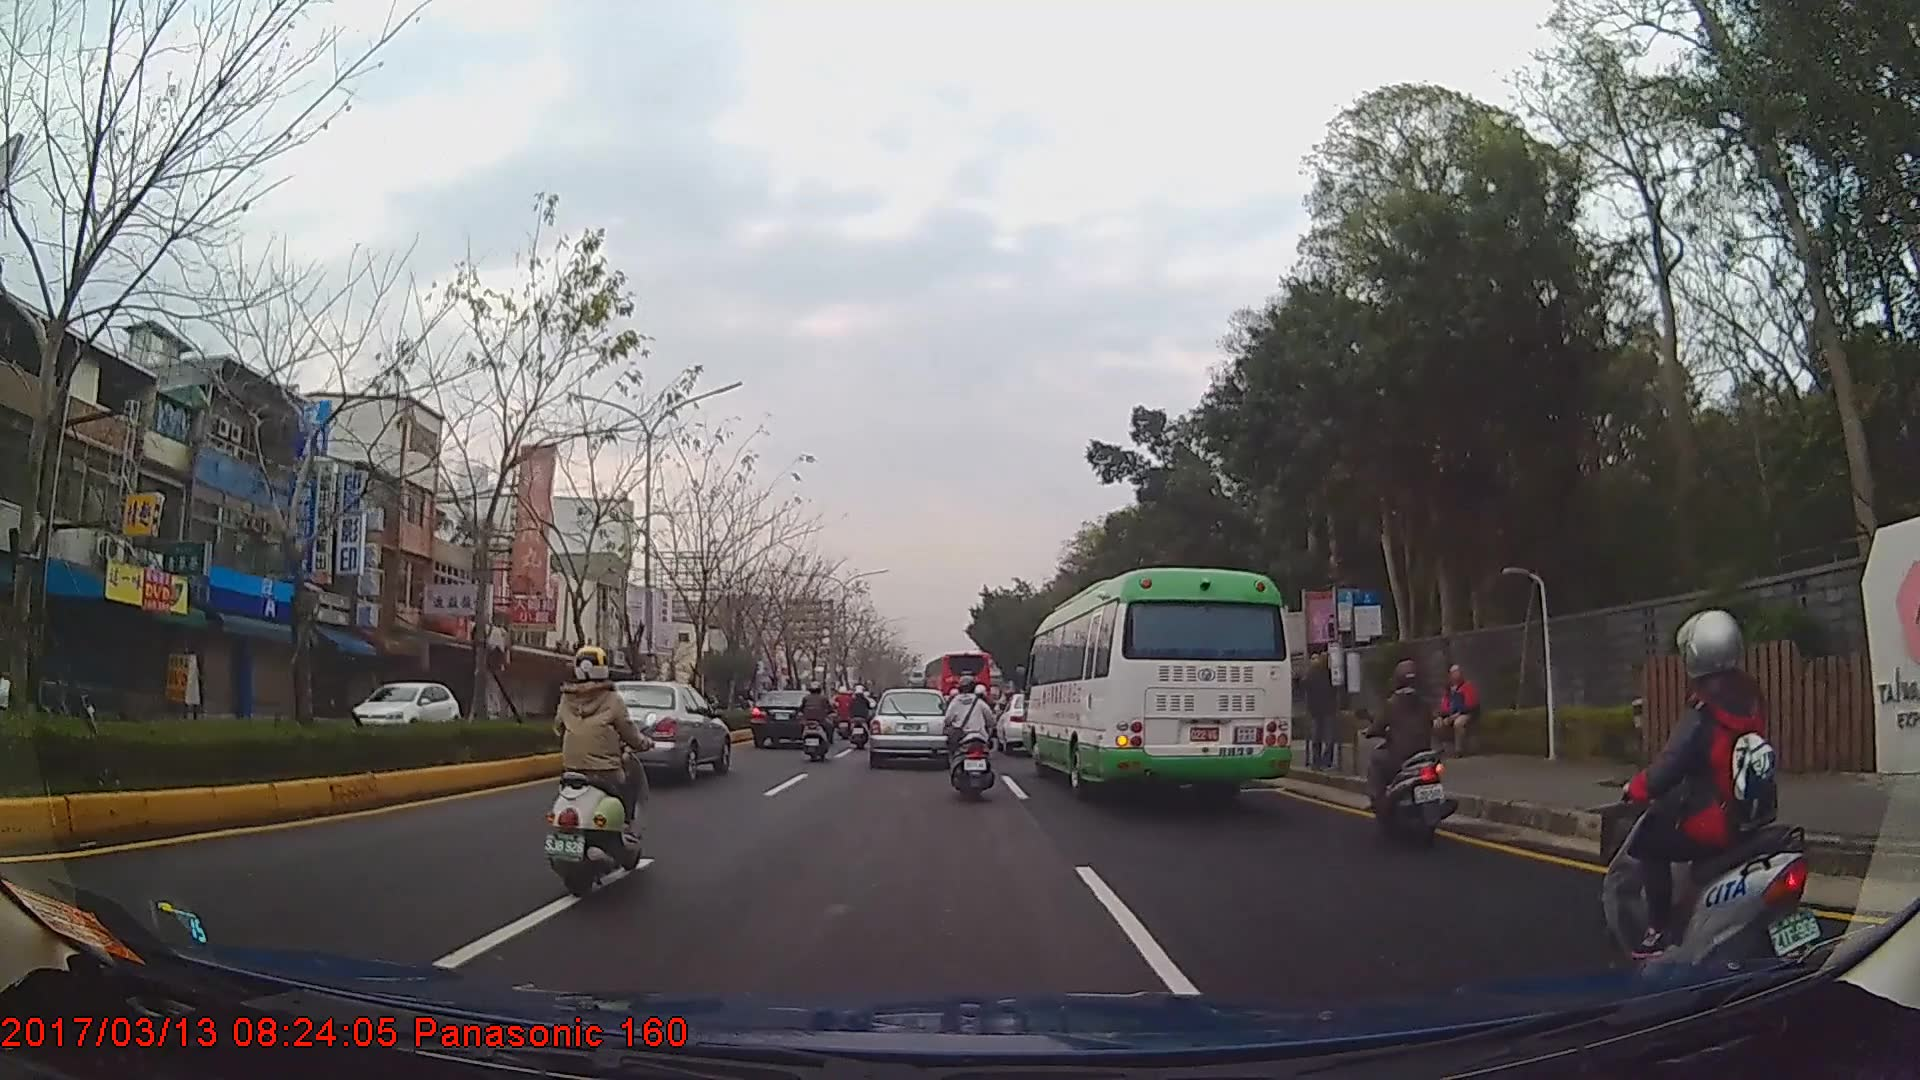pedestrian: (1427, 665, 1483, 762), (1300, 651, 1338, 775)
rider: (1596, 610, 1816, 1007), (543, 638, 638, 907), (1367, 652, 1460, 852), (942, 675, 997, 800), (801, 680, 837, 763), (849, 684, 872, 751), (835, 686, 857, 741)
vehicle: (1019, 568, 1291, 800), (568, 679, 728, 786), (341, 674, 465, 739), (867, 687, 954, 766), (750, 688, 835, 751), (923, 648, 992, 718)
